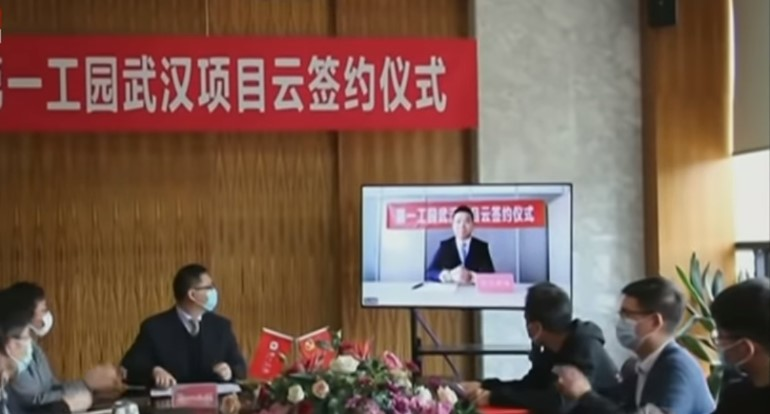face_with_mask: (703, 281, 767, 382), (616, 280, 683, 347), (0, 305, 33, 382), (8, 286, 49, 335), (176, 266, 218, 310)
